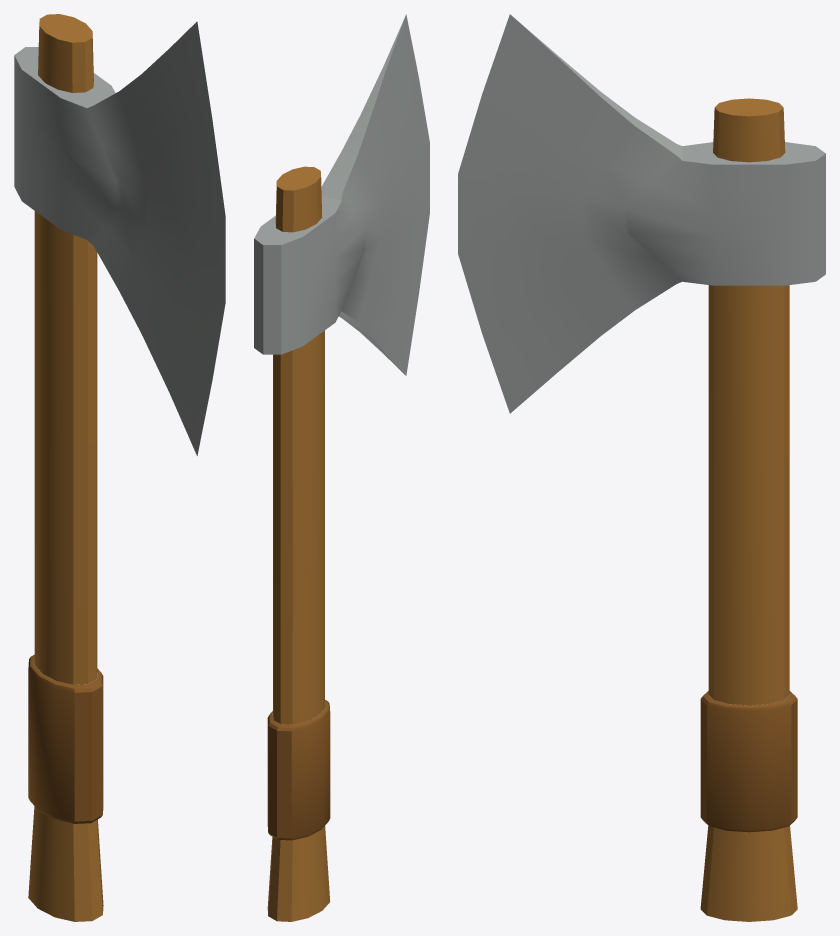
File: balta.fbx
3 renders of one model, left to right at view 1: azimuth 30°, elevation 25°; view 2: azimuth 150°, elevation 25°; view 3: azimuth 270°, elevation 25°, orthographic. The views are drawn at different scales.
Visible parts, largest first — view 1: balta; view 2: balta; view 3: balta.
Part boxes in pixels (x1,y1,x2,y2): balta: (14, 14, 225, 921); balta: (254, 14, 429, 921); balta: (458, 14, 825, 921).
Bounding box in the file's own units: 11.98 × 199 × 73.94.
